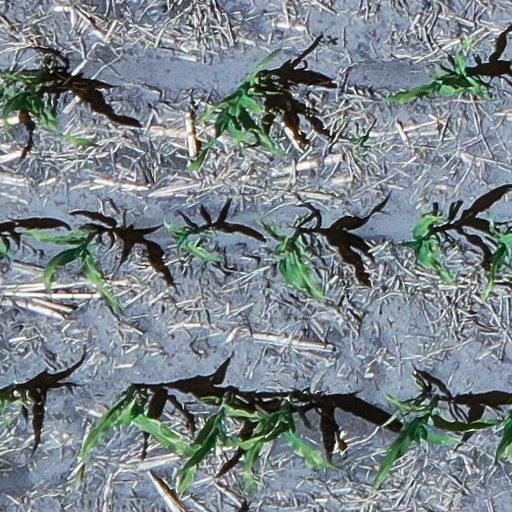planta: (185, 53, 289, 172), (74, 396, 202, 490), (373, 393, 493, 489), (176, 396, 266, 502), (242, 410, 337, 495), (25, 228, 122, 310), (385, 37, 495, 103), (261, 218, 326, 303), (409, 211, 458, 285), (161, 216, 220, 262)
